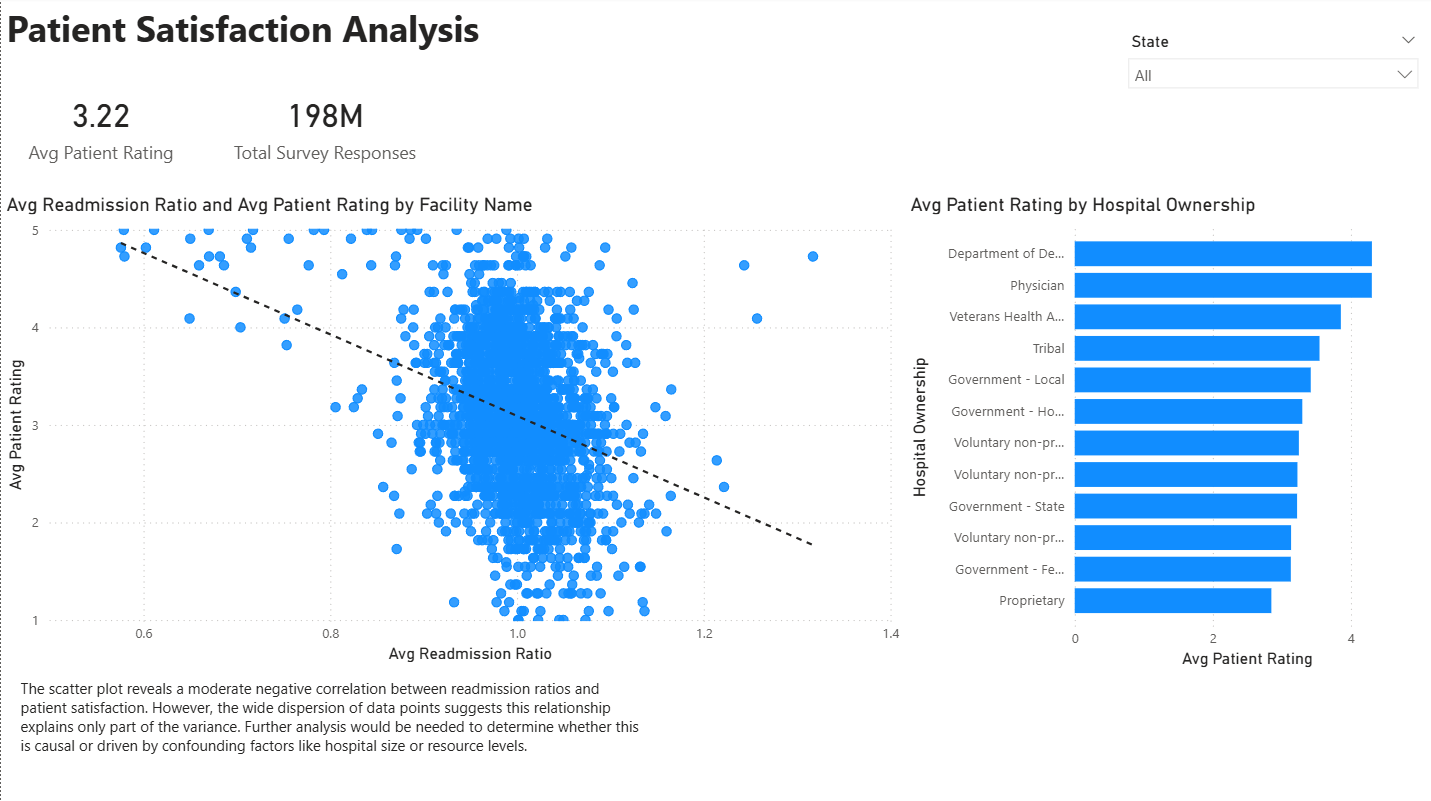

Layout of this report page (visuals, bound fields, positions):
{"tool":"powerbi","page":{"name":"Patient Satisfaction","canvas":[1280,720],"ordinal":1},"visuals":[{"type":"textbox","box":[0,0,443.3,53.7],"z":0},{"type":"scatterChart","fields":{"X":["Readmissions.Avg Readmission Ratio"],"Y":["Patient_Satisfaction.Avg Patient Rating"],"Category":["Hospitals.Facility Name"]},"box":[0,175.5,809.6,425.4],"z":1000},{"type":"card","fields":{"Values":["Patient_Satisfaction.Avg Patient Rating"]},"box":[0,53.7,179.1,121.8],"z":2000},{"type":"card","fields":{"Values":["Patient_Satisfaction.Total Survey Responses"]},"box":[179.1,53.7,222.1,121.8],"z":3000},{"type":"textbox","box":[12.5,605.4,573.1,114.6],"z":4000},{"type":"clusteredBarChart","fields":{"Category":["Hospitals.Hospital Ownership"],"Y":["Patient_Satisfaction.Avg Patient Rating"]},"box":[809.6,175.5,470.1,429.9],"z":5000},{"type":"slicer","fields":{"Values":["Hospitals.State"]},"box":[999.4,26.9,280.3,59.1],"z":6000}]}

Visuals, with their boxes in screenshot pixels (x1, y1, x2, y2), scaled from the page's 1280x720 canvas onto the 1431x801 screenshot:
textbox: rect(0, 0, 496, 60)
scatterChart - Readmissions.Avg Readmission Ratio x Patient_Satisfaction.Avg Patient Rating: rect(0, 195, 905, 669)
card - Patient_Satisfaction.Avg Patient Rating: rect(0, 60, 200, 195)
card - Patient_Satisfaction.Total Survey Responses: rect(200, 60, 449, 195)
textbox: rect(14, 674, 655, 800)
clusteredBarChart - Hospitals.Hospital Ownership x Patient_Satisfaction.Avg Patient Rating: rect(905, 195, 1430, 674)
slicer - Hospitals.State: rect(1117, 30, 1430, 96)
